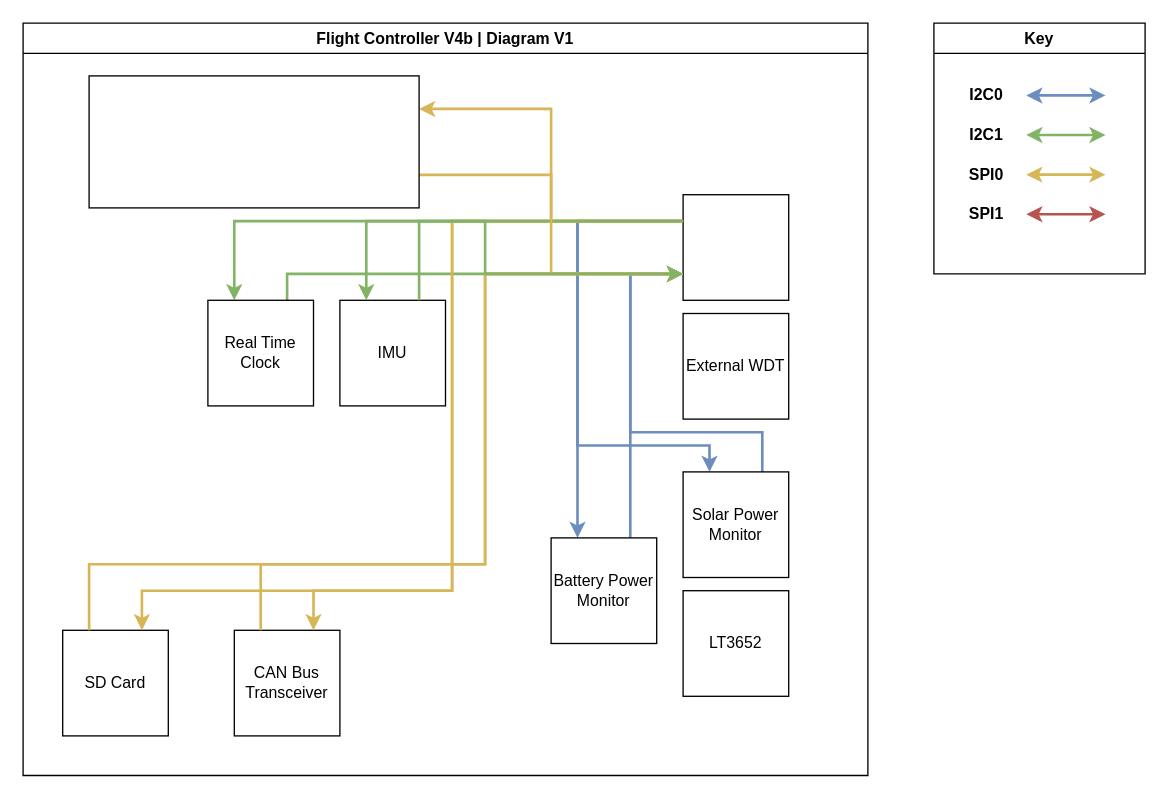
Some shapes in this 1168 by 799 pixel diagram are drawn without their labels. The shapes that lost their labels are listed below. From the top down, each one's centre as x and y in pixels, then its label:
pixel 253 141: Radio 1
pixel 735 246: RP2040
